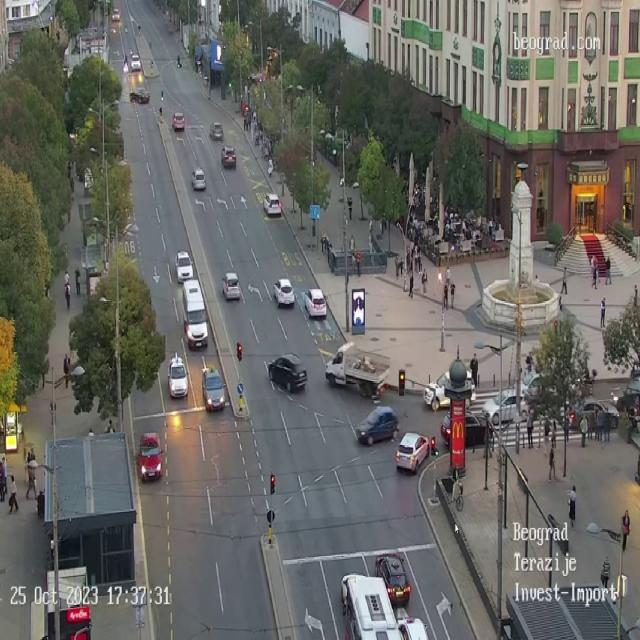bus: (340, 577, 400, 640)
car: (180, 277, 210, 346), (562, 394, 616, 432), (376, 547, 410, 601), (355, 405, 399, 446), (482, 388, 528, 426), (395, 431, 436, 473), (441, 409, 488, 445), (428, 377, 479, 409), (268, 353, 306, 392), (138, 431, 163, 482), (516, 372, 558, 402), (200, 365, 224, 413), (166, 359, 188, 397), (615, 378, 640, 411), (303, 288, 327, 319), (273, 278, 295, 307), (221, 271, 241, 301), (398, 617, 424, 640), (176, 252, 191, 284), (130, 86, 150, 107), (263, 193, 281, 216), (221, 145, 236, 168), (209, 121, 227, 140), (191, 168, 206, 190), (172, 112, 185, 131), (112, 4, 120, 26), (132, 57, 140, 73)
truck: (324, 342, 391, 398)
